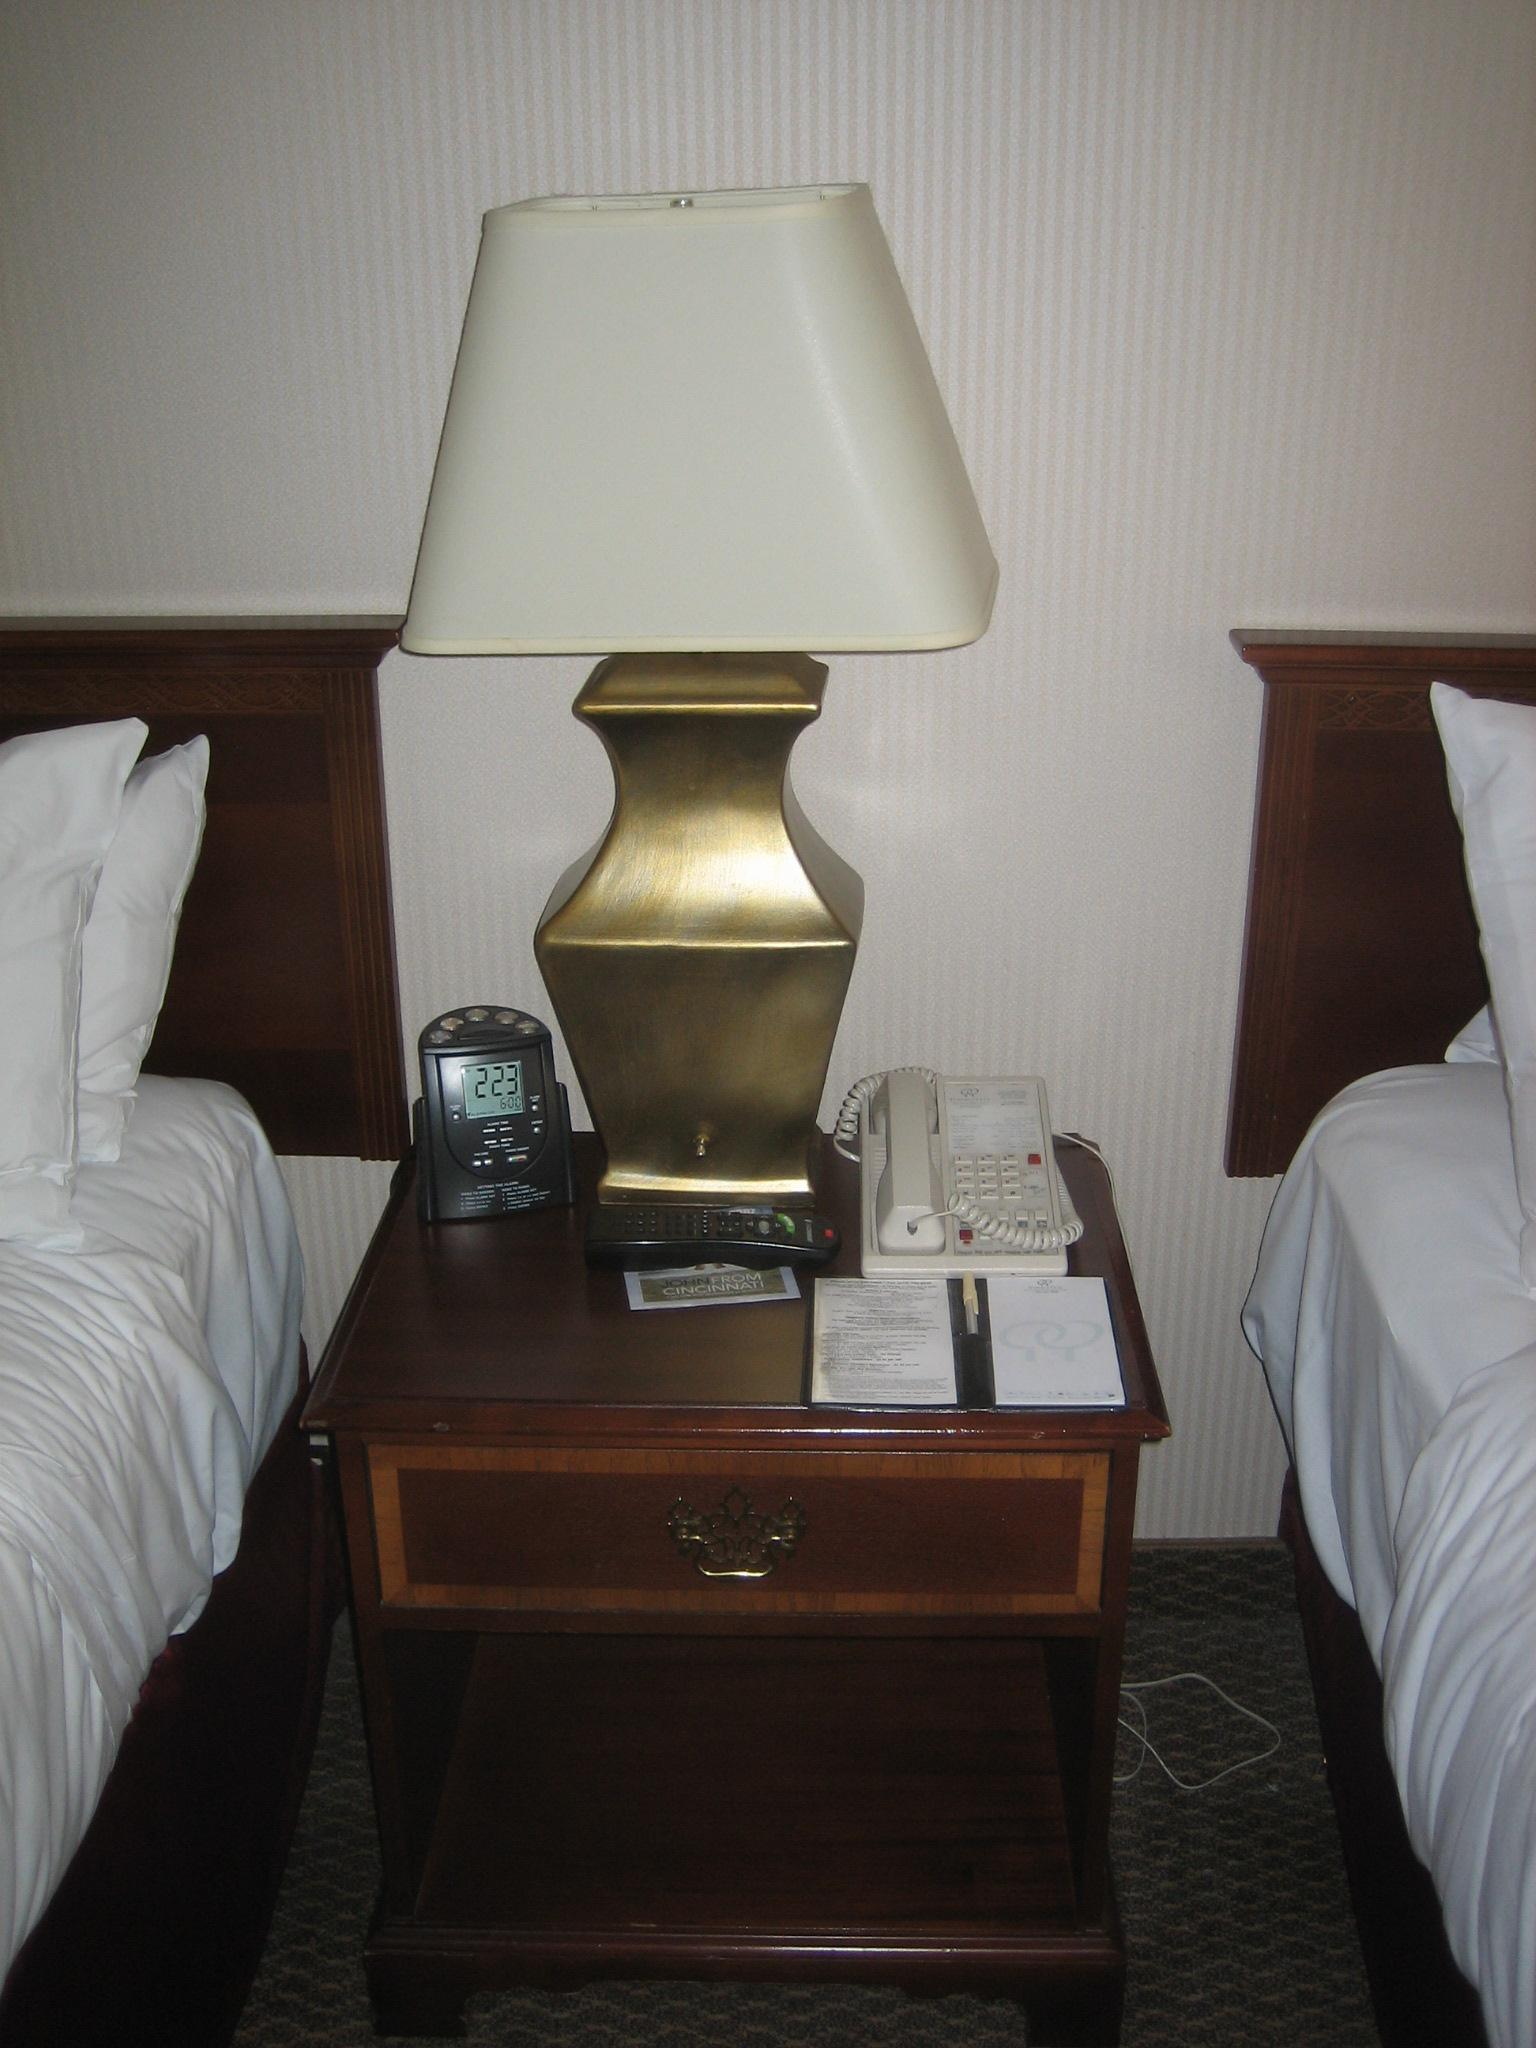Cama: (18, 577, 386, 2000), (1183, 624, 1520, 2037)
